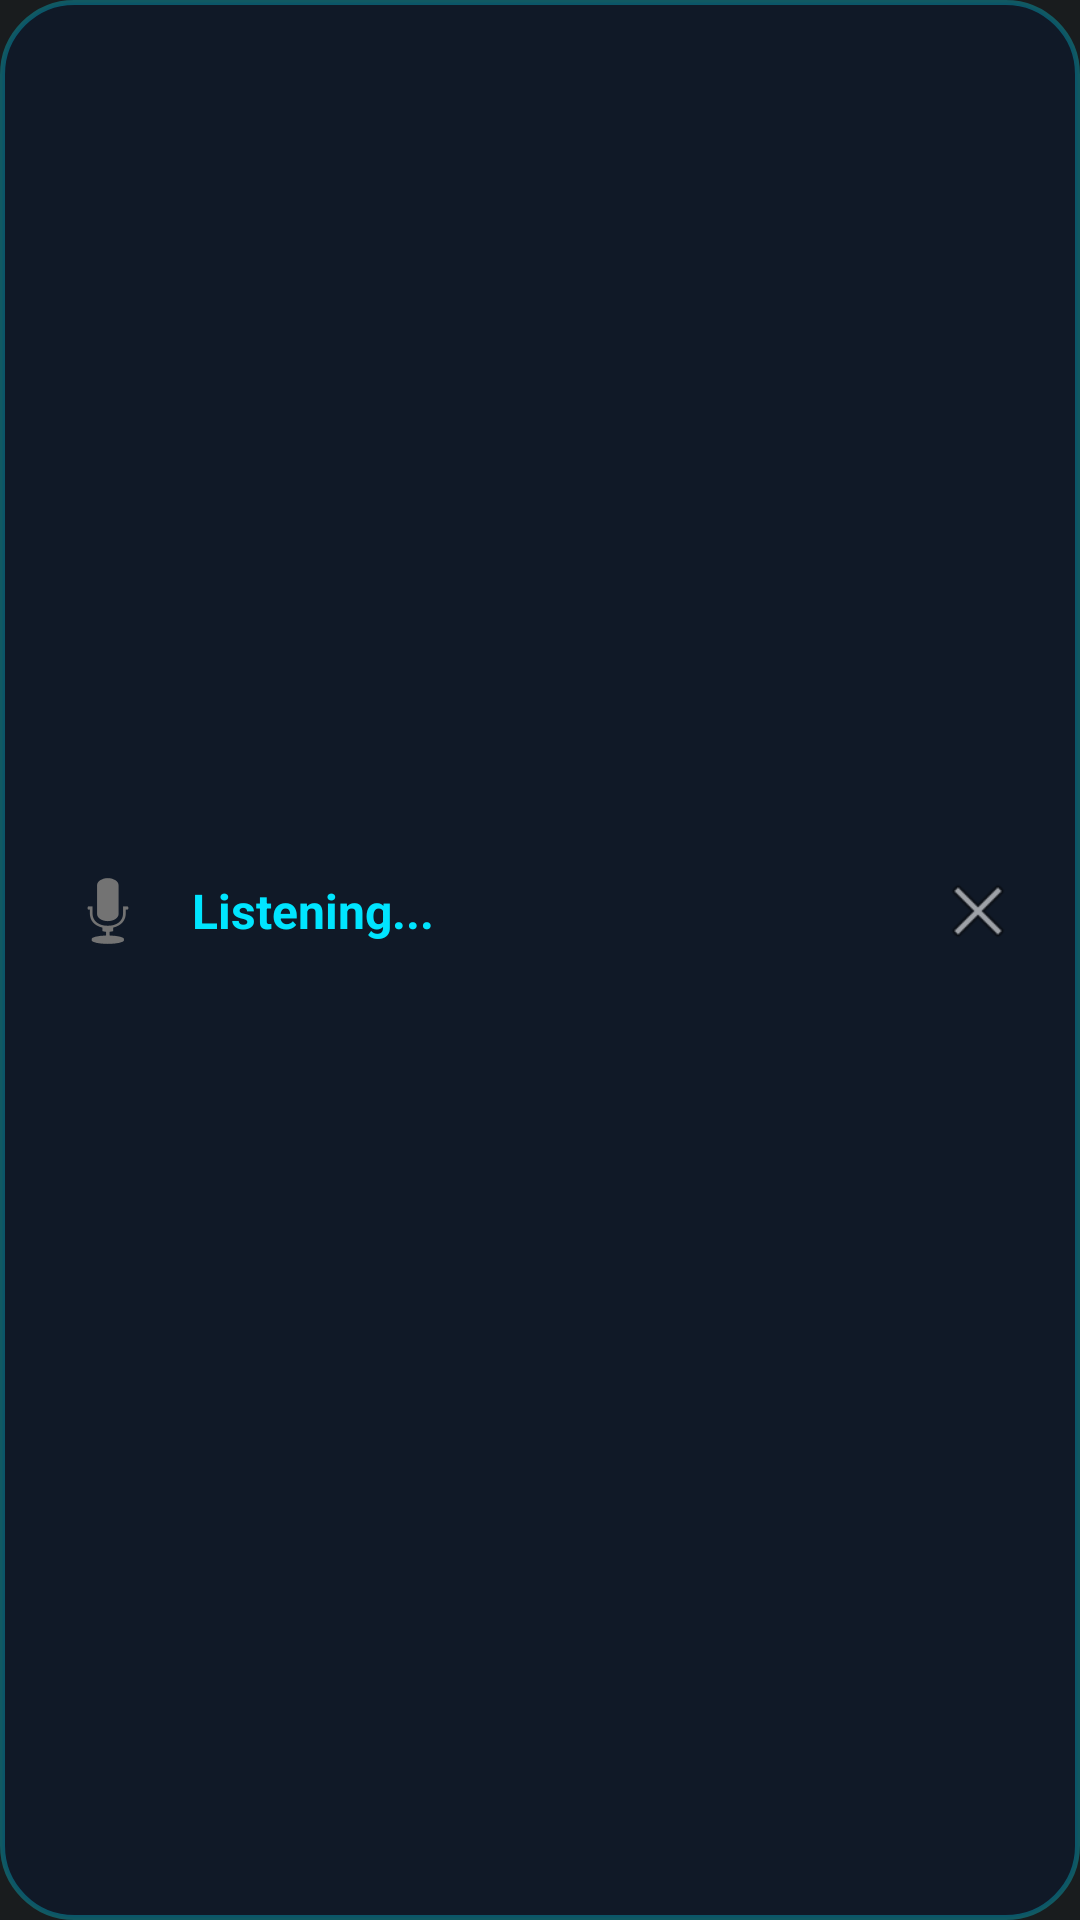

Icons on this 1080px×1920px Android screen, each with its box as (x1, y1, x2, y2):
Dismiss: (954, 887, 1002, 935)
speak now: (87, 878, 129, 944)
